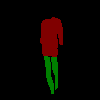maglione: (40, 17, 63, 56)
pantaloni: (44, 56, 58, 94)
